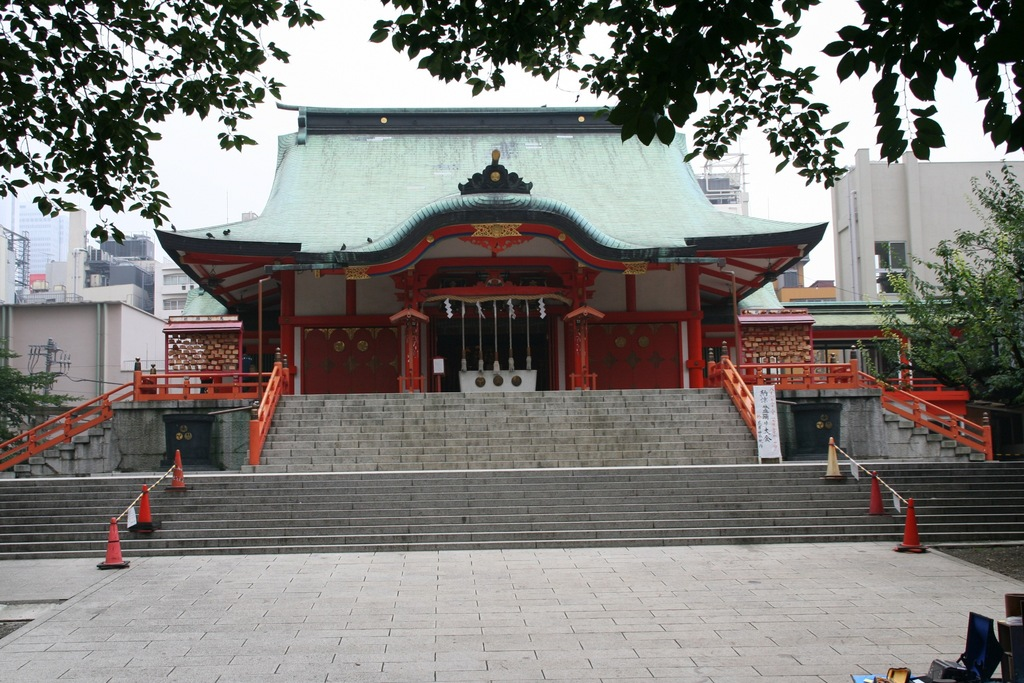Tree: (367, 0, 1023, 188), (0, 0, 327, 245), (864, 134, 1014, 434), (0, 340, 88, 452)
